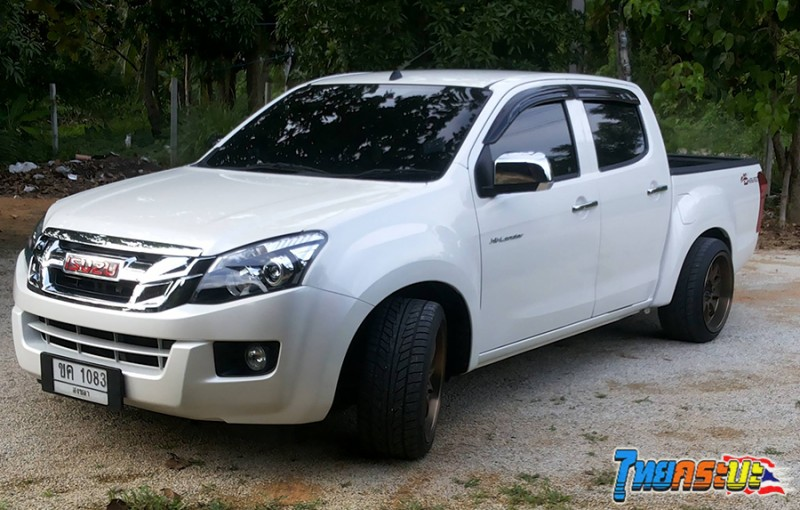pickup: (13, 64, 764, 445)
